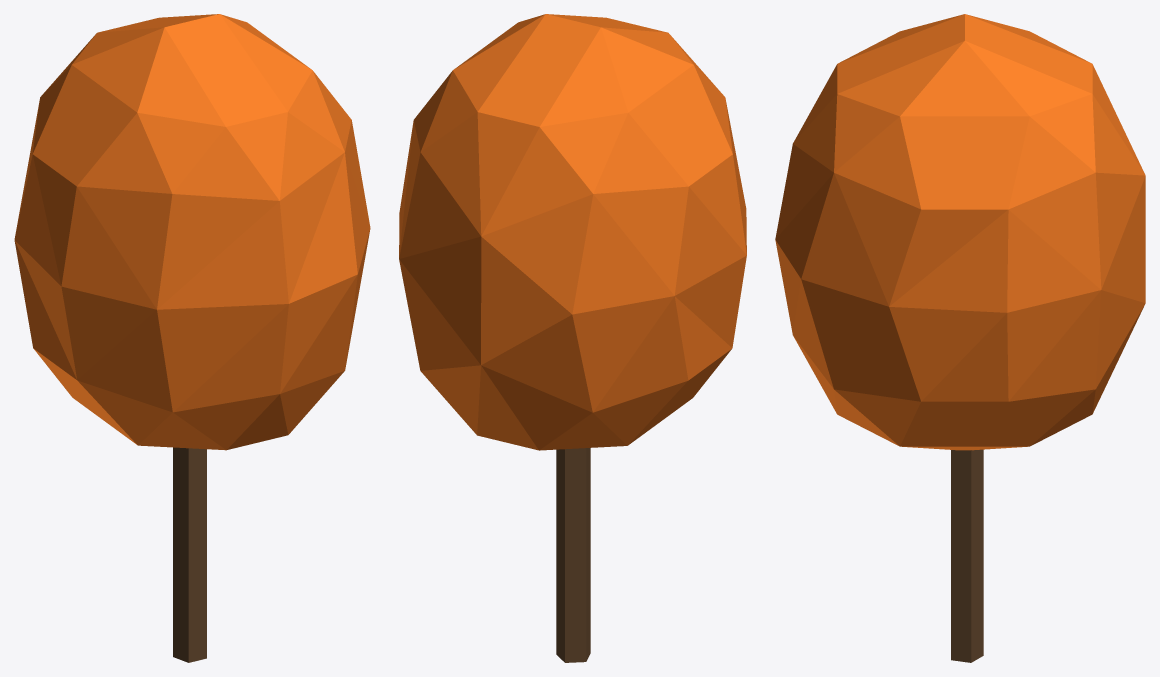
File: tree-round_orange.glb
The picture shows the model from 3 angles, left to right: view 1: azimuth 30°, elevation 25°; view 2: azimuth 150°, elevation 25°; view 3: azimuth 270°, elevation 25°; orthographic projection.
Parts seen in each view (by area): view 1: tree-round_orange; view 2: tree-round_orange; view 3: tree-round_orange.
Boxes of the visible parts, <box> form: tree-round_orange: <box>14,14,370,662</box>; tree-round_orange: <box>399,14,746,662</box>; tree-round_orange: <box>775,14,1145,662</box>.
Size of the model in its own units: 2.54 by 5.06 by 2.7.
1 material, 1 textured.
